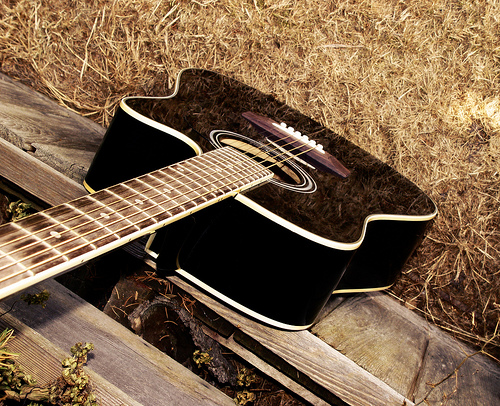guitar: (1, 65, 439, 335)
